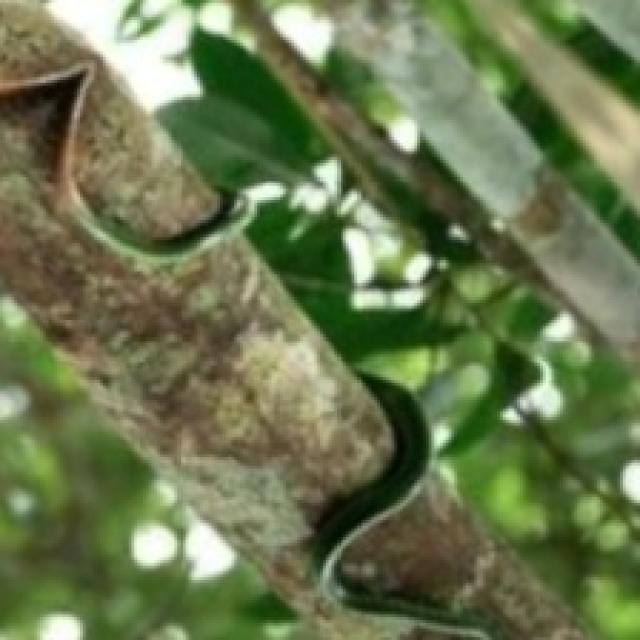red-tailed green ratsnake: (0, 61, 254, 269), (311, 372, 501, 640)
